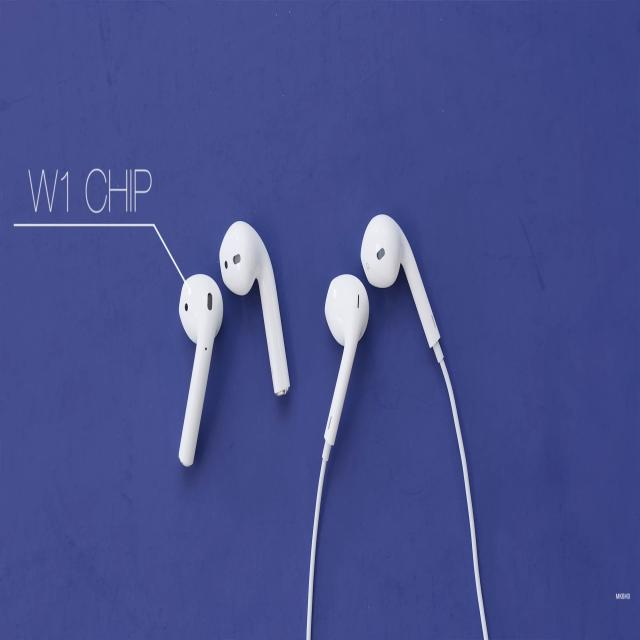Earphone: (307, 213, 490, 640)
airpods: (178, 220, 291, 470)
